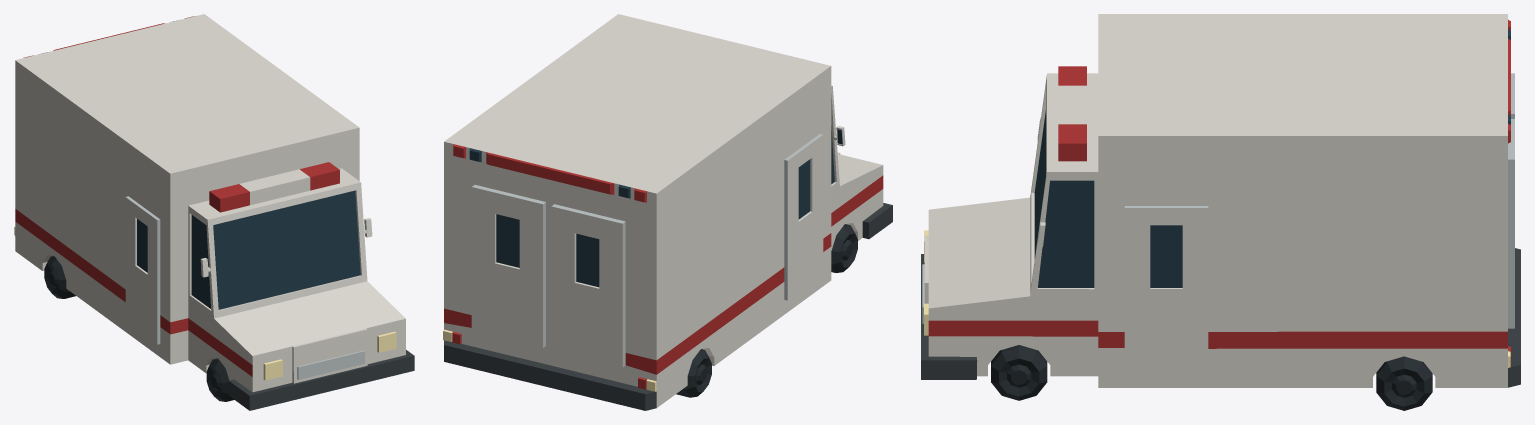
The model's file is Ambulance.glb.
3 views of the same model, side by side, from view 1: azimuth 30°, elevation 25°; view 2: azimuth 150°, elevation 25°; view 3: azimuth 270°, elevation 25° (orthographic). The views are drawn at different scales.
Parts seen in each view (by area): view 1: Ambulance, FrontWheels, BackWheels; view 2: Ambulance, FrontWheels, BackWheels; view 3: Ambulance, FrontWheels, BackWheels.
Boxes of the visible parts, box(x1,y1,x2,y2) form: Ambulance: box(14, 14, 414, 410); FrontWheels: box(206, 358, 234, 401); BackWheels: box(44, 256, 75, 298); Ambulance: box(443, 14, 892, 410); FrontWheels: box(831, 224, 857, 272); BackWheels: box(676, 349, 711, 397); Ambulance: box(921, 14, 1520, 387); FrontWheels: box(991, 345, 1047, 400); BackWheels: box(1376, 356, 1432, 410).
Size of the model in its own units: 1.88 by 1.93 by 3.79.
